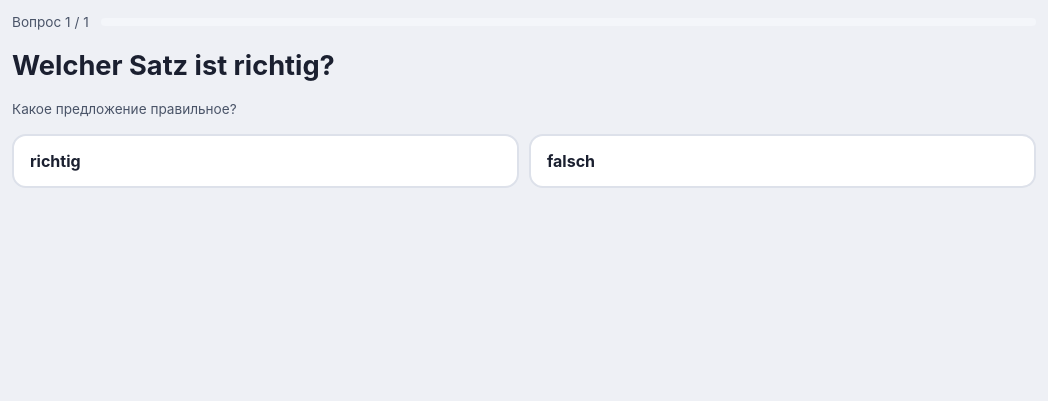
3 · Kyrgyz and Russian prompts and explanations, strictly › a Russian learner sees the Russian prompt and explanation and NO Kyrgyz
Click the button "falsch".
click(571, 160)  # box [529, 134, 1036, 188]
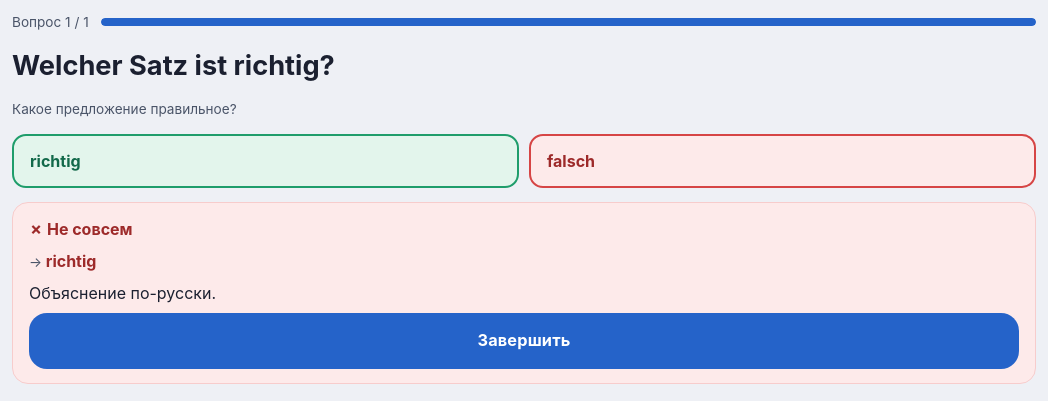
Check: the text "Какое предложение правильное?" is shown, box [12, 101, 237, 117]
Check: the text "Объяснение по-русски." is shown, box [29, 282, 216, 302]
